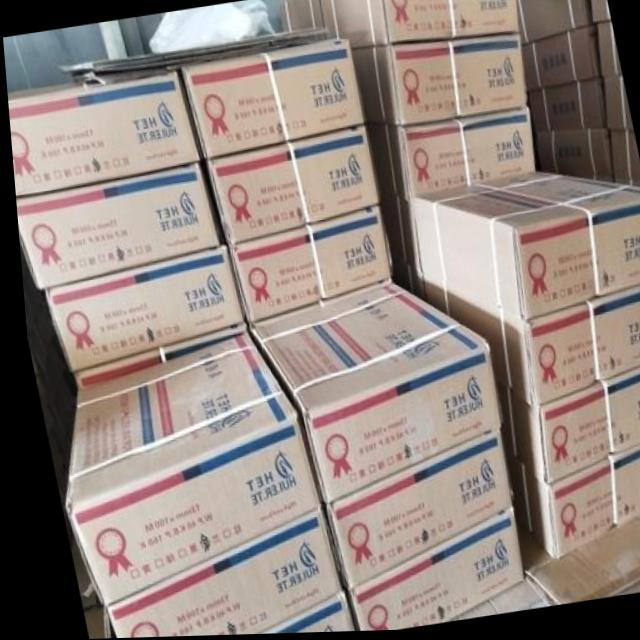box: (56, 333, 311, 608), (245, 284, 495, 505), (409, 174, 640, 324), (95, 510, 331, 639), (314, 432, 503, 589), (419, 278, 640, 409), (13, 163, 214, 289), (41, 248, 238, 373), (6, 74, 197, 195), (178, 39, 361, 163), (341, 510, 515, 633), (205, 128, 375, 245), (487, 366, 640, 487), (226, 210, 388, 322), (353, 36, 527, 128), (510, 445, 640, 561), (373, 111, 533, 202), (67, 325, 240, 388), (318, 0, 516, 53), (520, 31, 600, 94), (525, 81, 604, 137), (533, 131, 612, 185), (247, 594, 343, 635), (516, 0, 593, 47), (382, 198, 417, 278), (600, 79, 631, 134), (279, 0, 323, 32), (597, 24, 621, 80), (590, 0, 610, 26)
